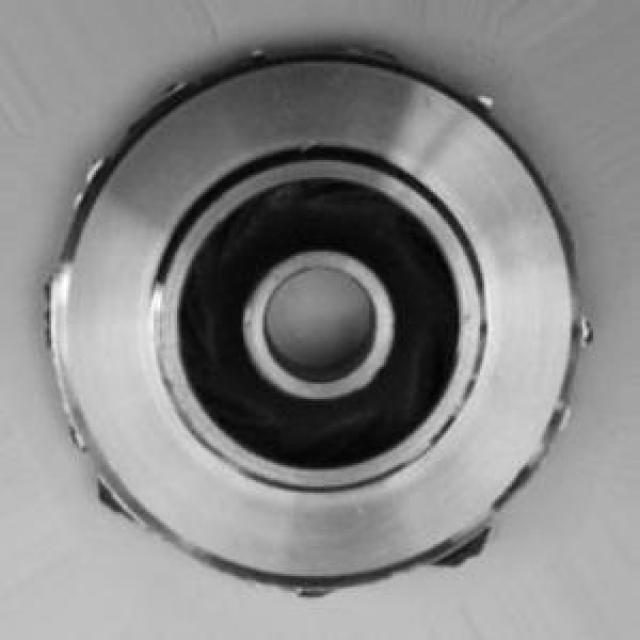Defect: (428, 519, 511, 586)
